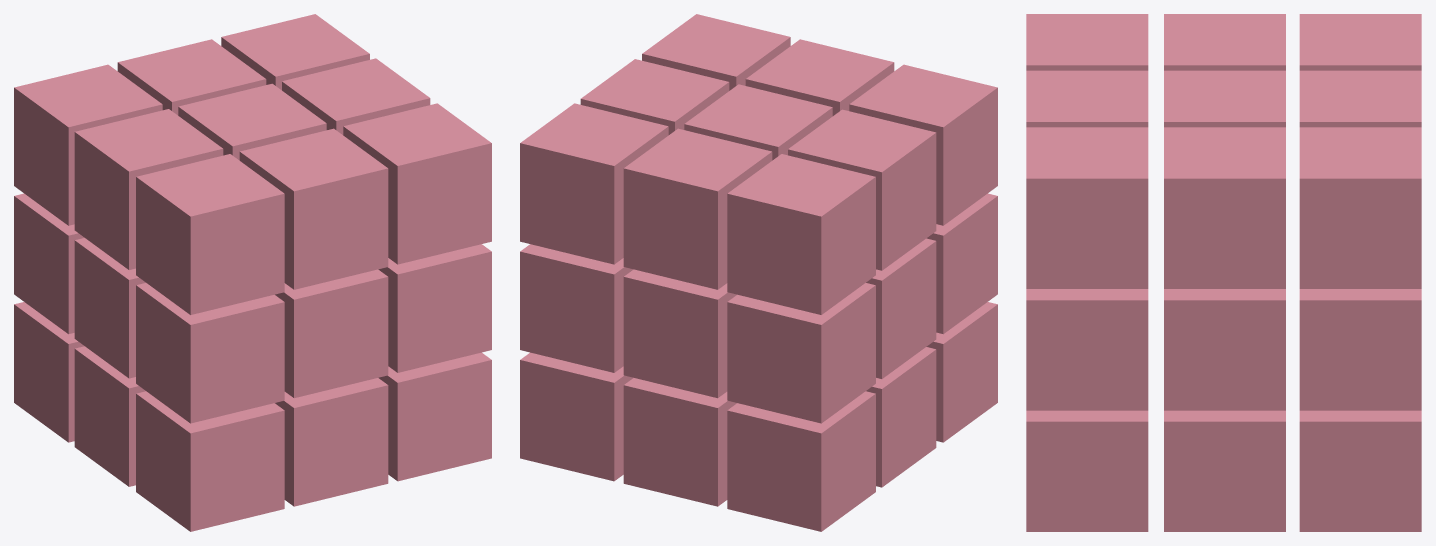
Rendered from collectible.fbx.
3 renders of one model, left to right at view 1: azimuth 30°, elevation 25°; view 2: azimuth 150°, elevation 25°; view 3: azimuth 270°, elevation 25°, orthographic. The views are drawn at different scales.
Parts seen in each view (by area): view 1: Cube.023, Cube.018, Cube.024, Cube.021, Cube.022, Cube.003, Cube.014, Cube.026, Cube.020, Cube.019, Cube.025, Cube.002 (+7 smaller); view 2: Cube.014, Cube.009, Cube.015, Cube.012, Cube.013, Cube.023, Cube.003, Cube.017, Cube.011, Cube.010, Cube.016, Cube.024 (+7 smaller); view 3: Cube.013, Cube.022, Cube.004, Cube.016, Cube.025, Cube.010, Cube.019, Cube.001, Cube.007, Cube.012, Cube.021, Cube.005 (+3 smaller).
Boxes of the visible parts, x1=… form: Cube.023: x1=136, y1=154, x2=284, y2=314; Cube.018: x1=136, y1=391, x2=284, y2=531; Cube.024: x1=136, y1=283, x2=284, y2=423; Cube.021: x1=239, y1=128, x2=388, y2=289; Cube.022: x1=343, y1=103, x2=491, y2=264; Cube.003: x1=74, y1=109, x2=223, y2=269; Cube.014: x1=14, y1=64, x2=162, y2=225; Cube.026: x1=275, y1=269, x2=388, y2=398; Cube.020: x1=275, y1=378, x2=388, y2=506; Cube.019: x1=378, y1=352, x2=491, y2=481; Cube.025: x1=378, y1=244, x2=491, y2=372; Cube.002: x1=74, y1=238, x2=145, y2=378; Cube.014: x1=727, y1=154, x2=875, y2=314; Cube.009: x1=727, y1=391, x2=875, y2=531; Cube.015: x1=727, y1=283, x2=875, y2=423; Cube.012: x1=623, y1=128, x2=772, y2=289; Cube.013: x1=520, y1=103, x2=668, y2=264; Cube.023: x1=849, y1=64, x2=997, y2=225; Cube.003: x1=788, y1=109, x2=936, y2=270; Cube.017: x1=623, y1=269, x2=736, y2=398; Cube.011: x1=623, y1=378, x2=736, y2=506; Cube.010: x1=520, y1=352, x2=633, y2=481; Cube.016: x1=520, y1=244, x2=633, y2=372; Cube.024: x1=926, y1=193, x2=997, y2=334; Cube.013: x1=1299, y1=127, x2=1421, y2=288; Cube.022: x1=1026, y1=127, x2=1148, y2=288; Cube.004: x1=1164, y1=127, x2=1285, y2=288; Cube.016: x1=1299, y1=289, x2=1421, y2=410; Cube.025: x1=1026, y1=289, x2=1148, y2=410; Cube.010: x1=1299, y1=410, x2=1421, y2=531; Cube.019: x1=1026, y1=410, x2=1148, y2=531; Cube.001: x1=1164, y1=289, x2=1285, y2=410; Cube.007: x1=1164, y1=410, x2=1285, y2=531; Cube.012: x1=1299, y1=70, x2=1421, y2=127; Cube.021: x1=1026, y1=70, x2=1148, y2=127; Cube.005: x1=1164, y1=70, x2=1285, y2=127.
Bounding box in the file's own units: 96 × 96 × 97.34.
